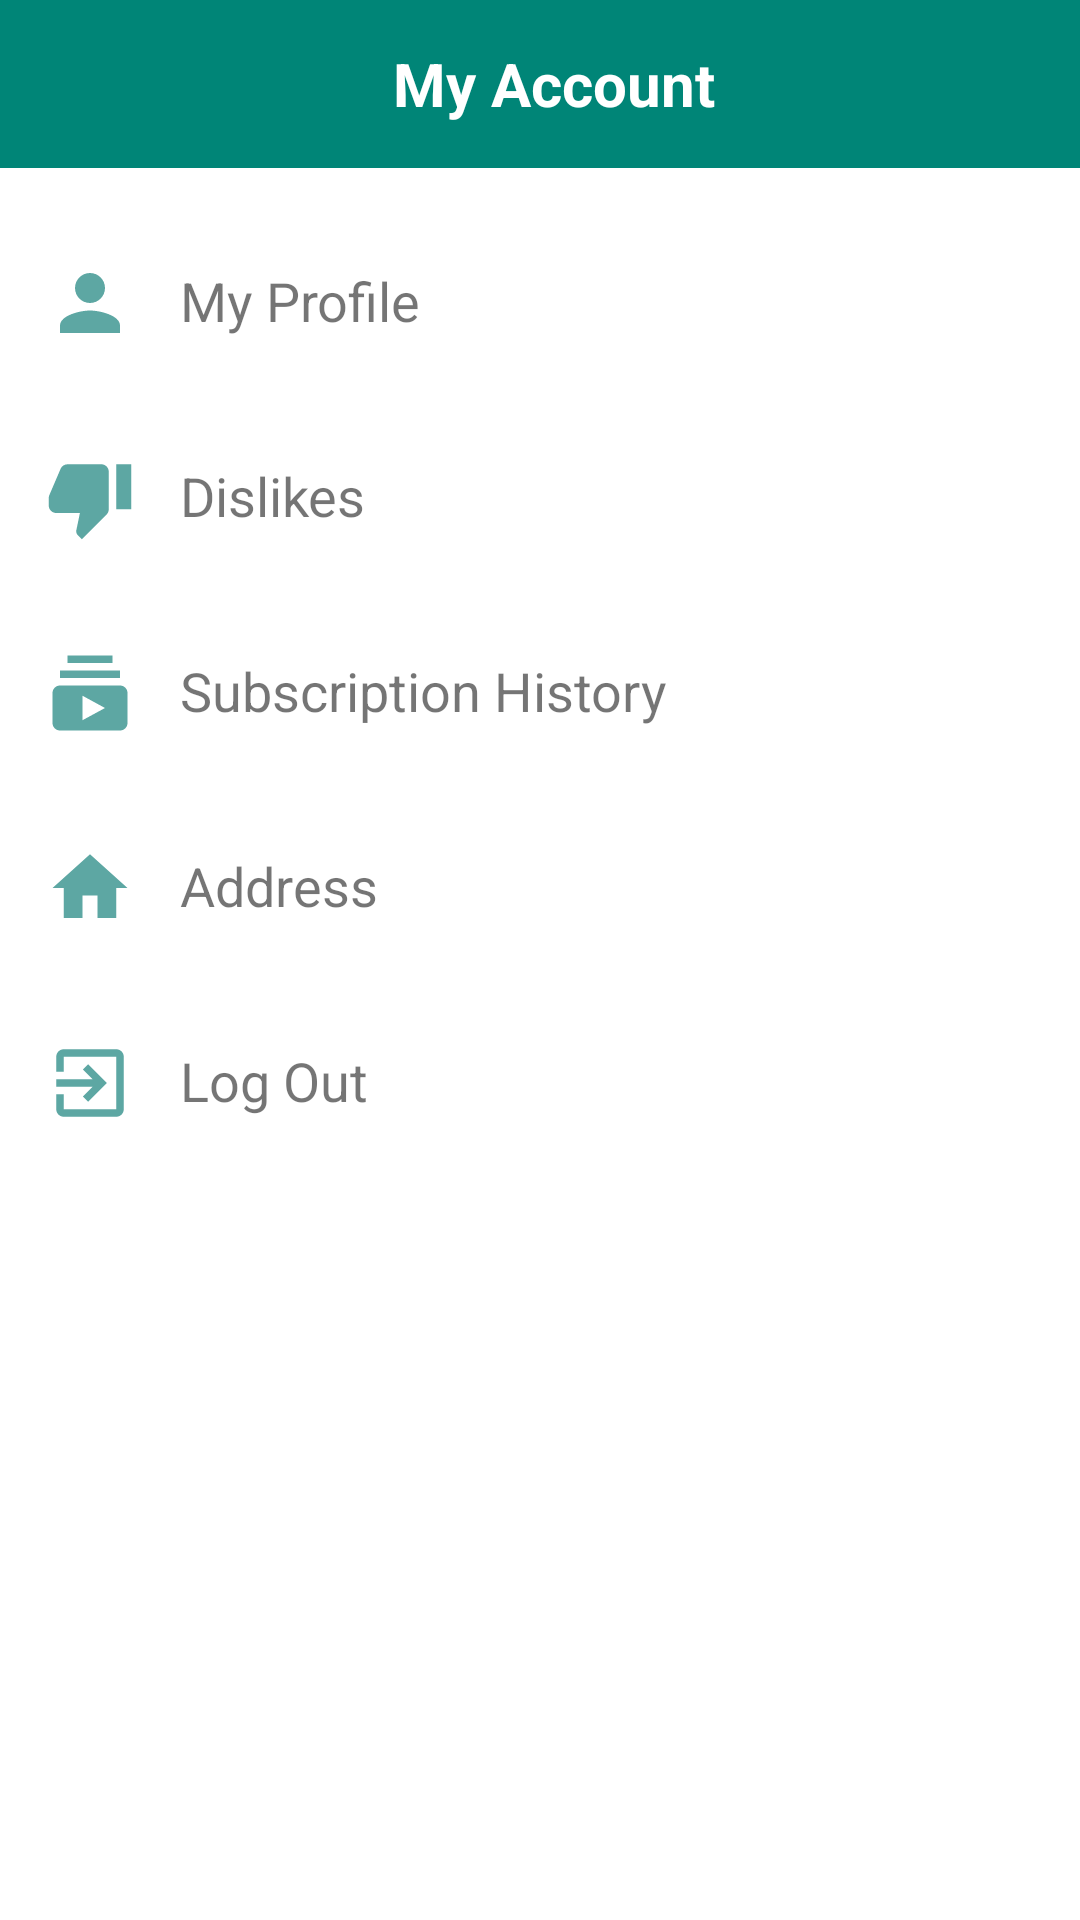

Named icons in this screenshot (1080px×1920px) and their bounding boxes, (x1, y1, x2, y2):
exit to app: (56, 1049, 124, 1117)
home: (53, 854, 127, 918)
person: (60, 273, 120, 333)
subscriptions: (52, 655, 128, 731)
thumb down: (48, 464, 132, 539)
